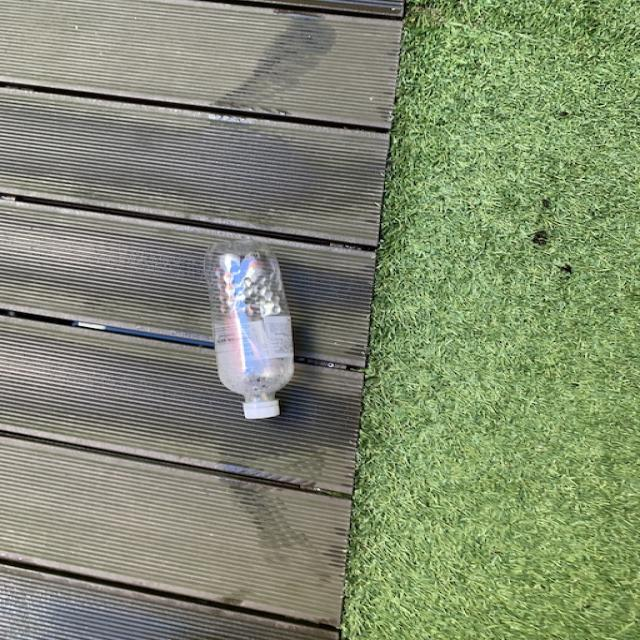Waste: (204, 240, 294, 419)
